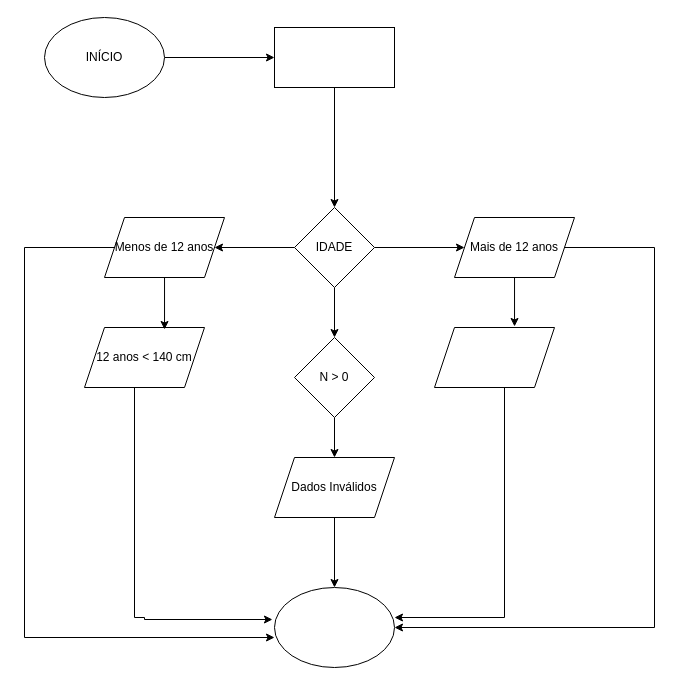
This 680x685 diagram has some shape labels left out. The centre of each missing label's shape, as x and y in pixels:
"12 anos >140 cm" belongs at (x=494, y=357).
"Altura + Idade = 12" belongs at (x=334, y=57).
"Fim" belongs at (x=334, y=627).
